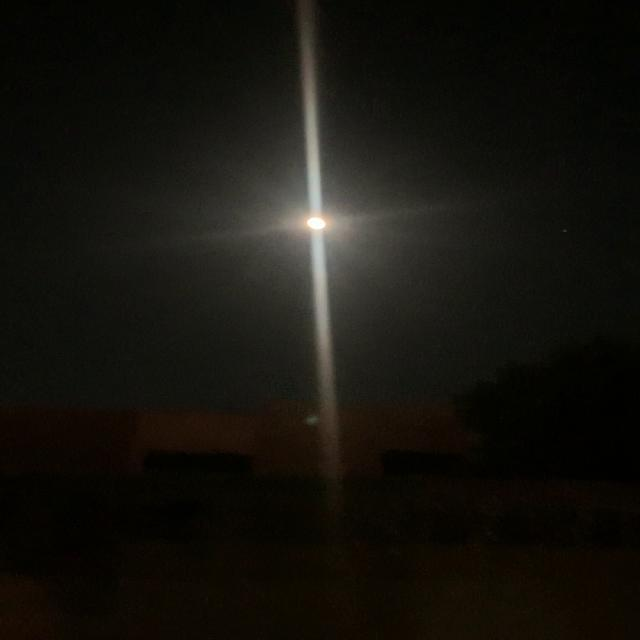moon: (286, 208, 348, 242)
